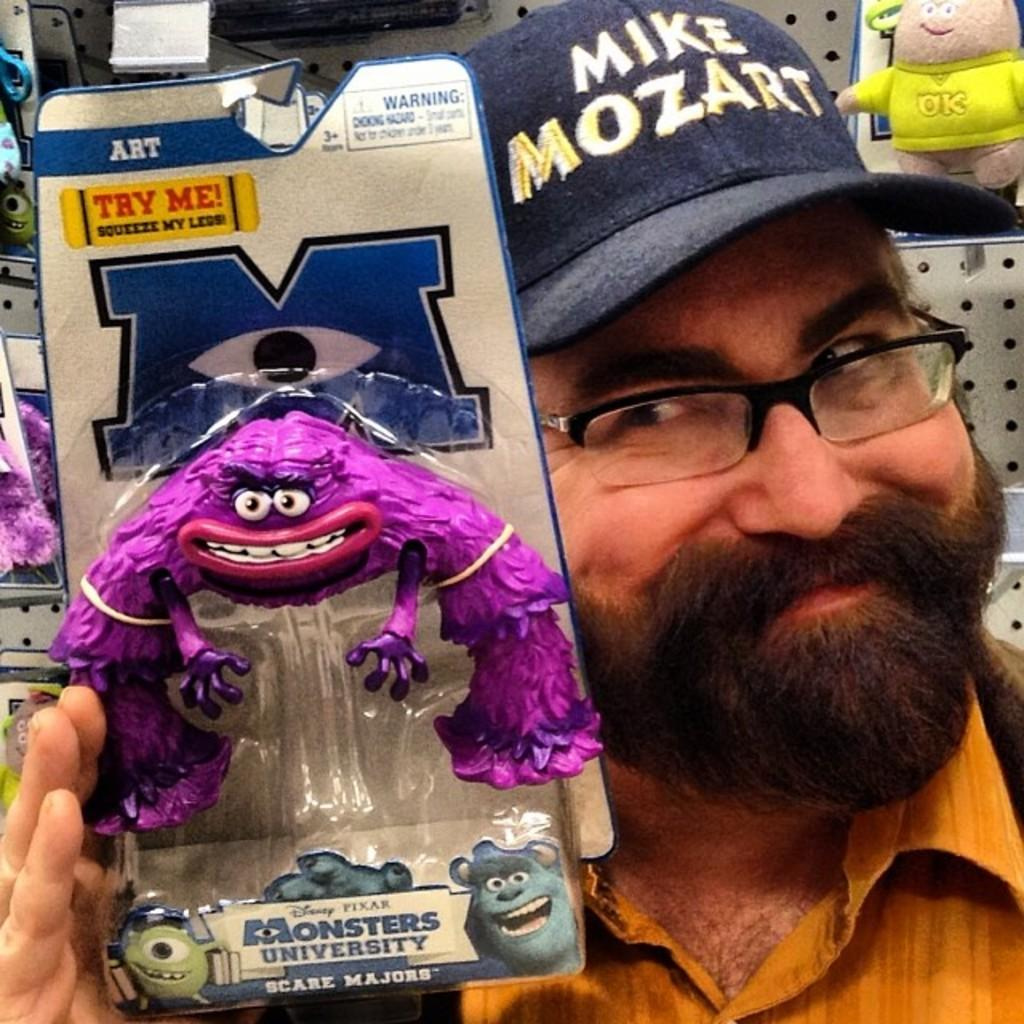Hat: (456, 0, 1018, 352)
